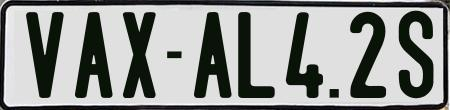2: (347, 9, 387, 99)
4: (286, 9, 326, 101)
A: (26, 10, 65, 99), (122, 10, 160, 97)
L: (194, 11, 238, 97)
S: (399, 8, 433, 98)
V: (226, 2, 430, 10)
X: (73, 12, 117, 102)
